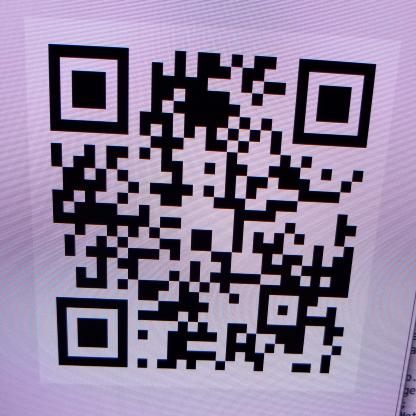qr: (42, 40, 382, 384)
